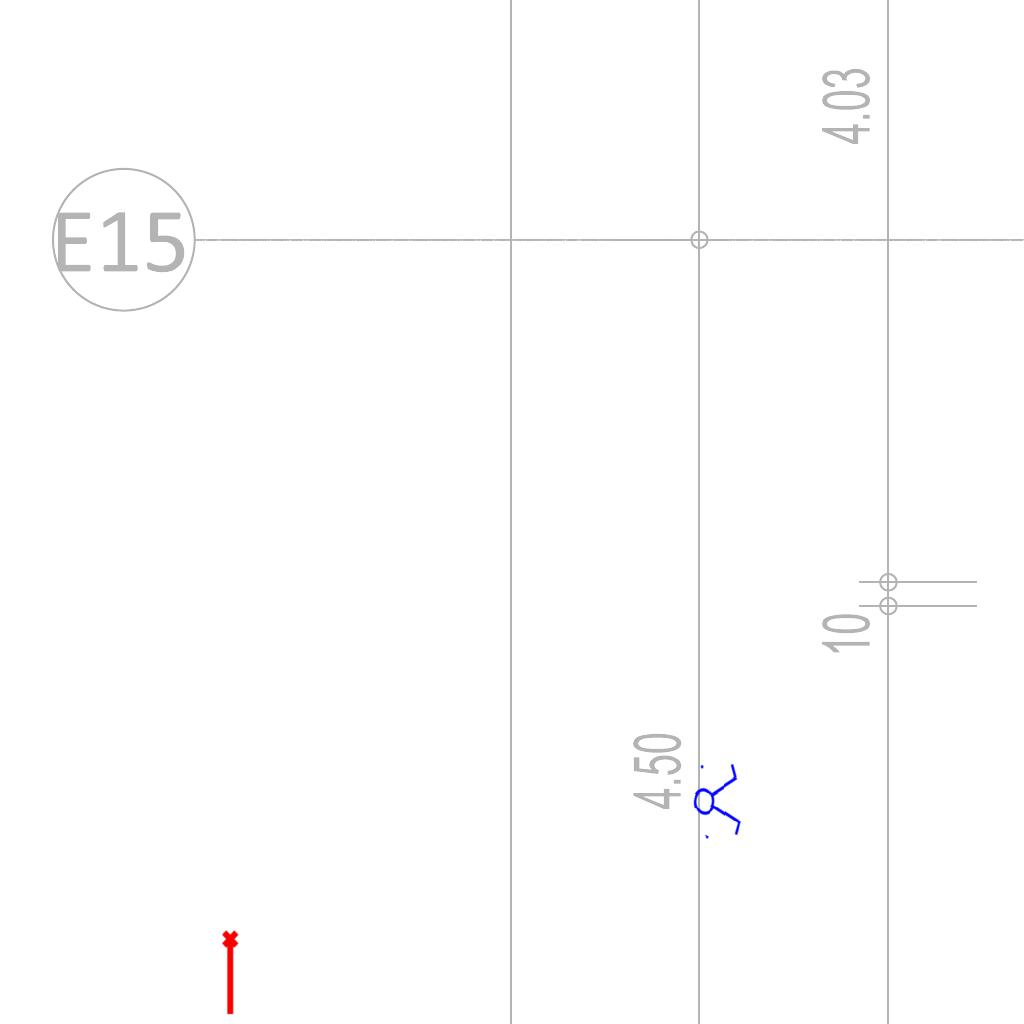ASR_Ansaugoeffnung: (220, 929, 243, 1017)
Serienschalter: (690, 756, 744, 844)
